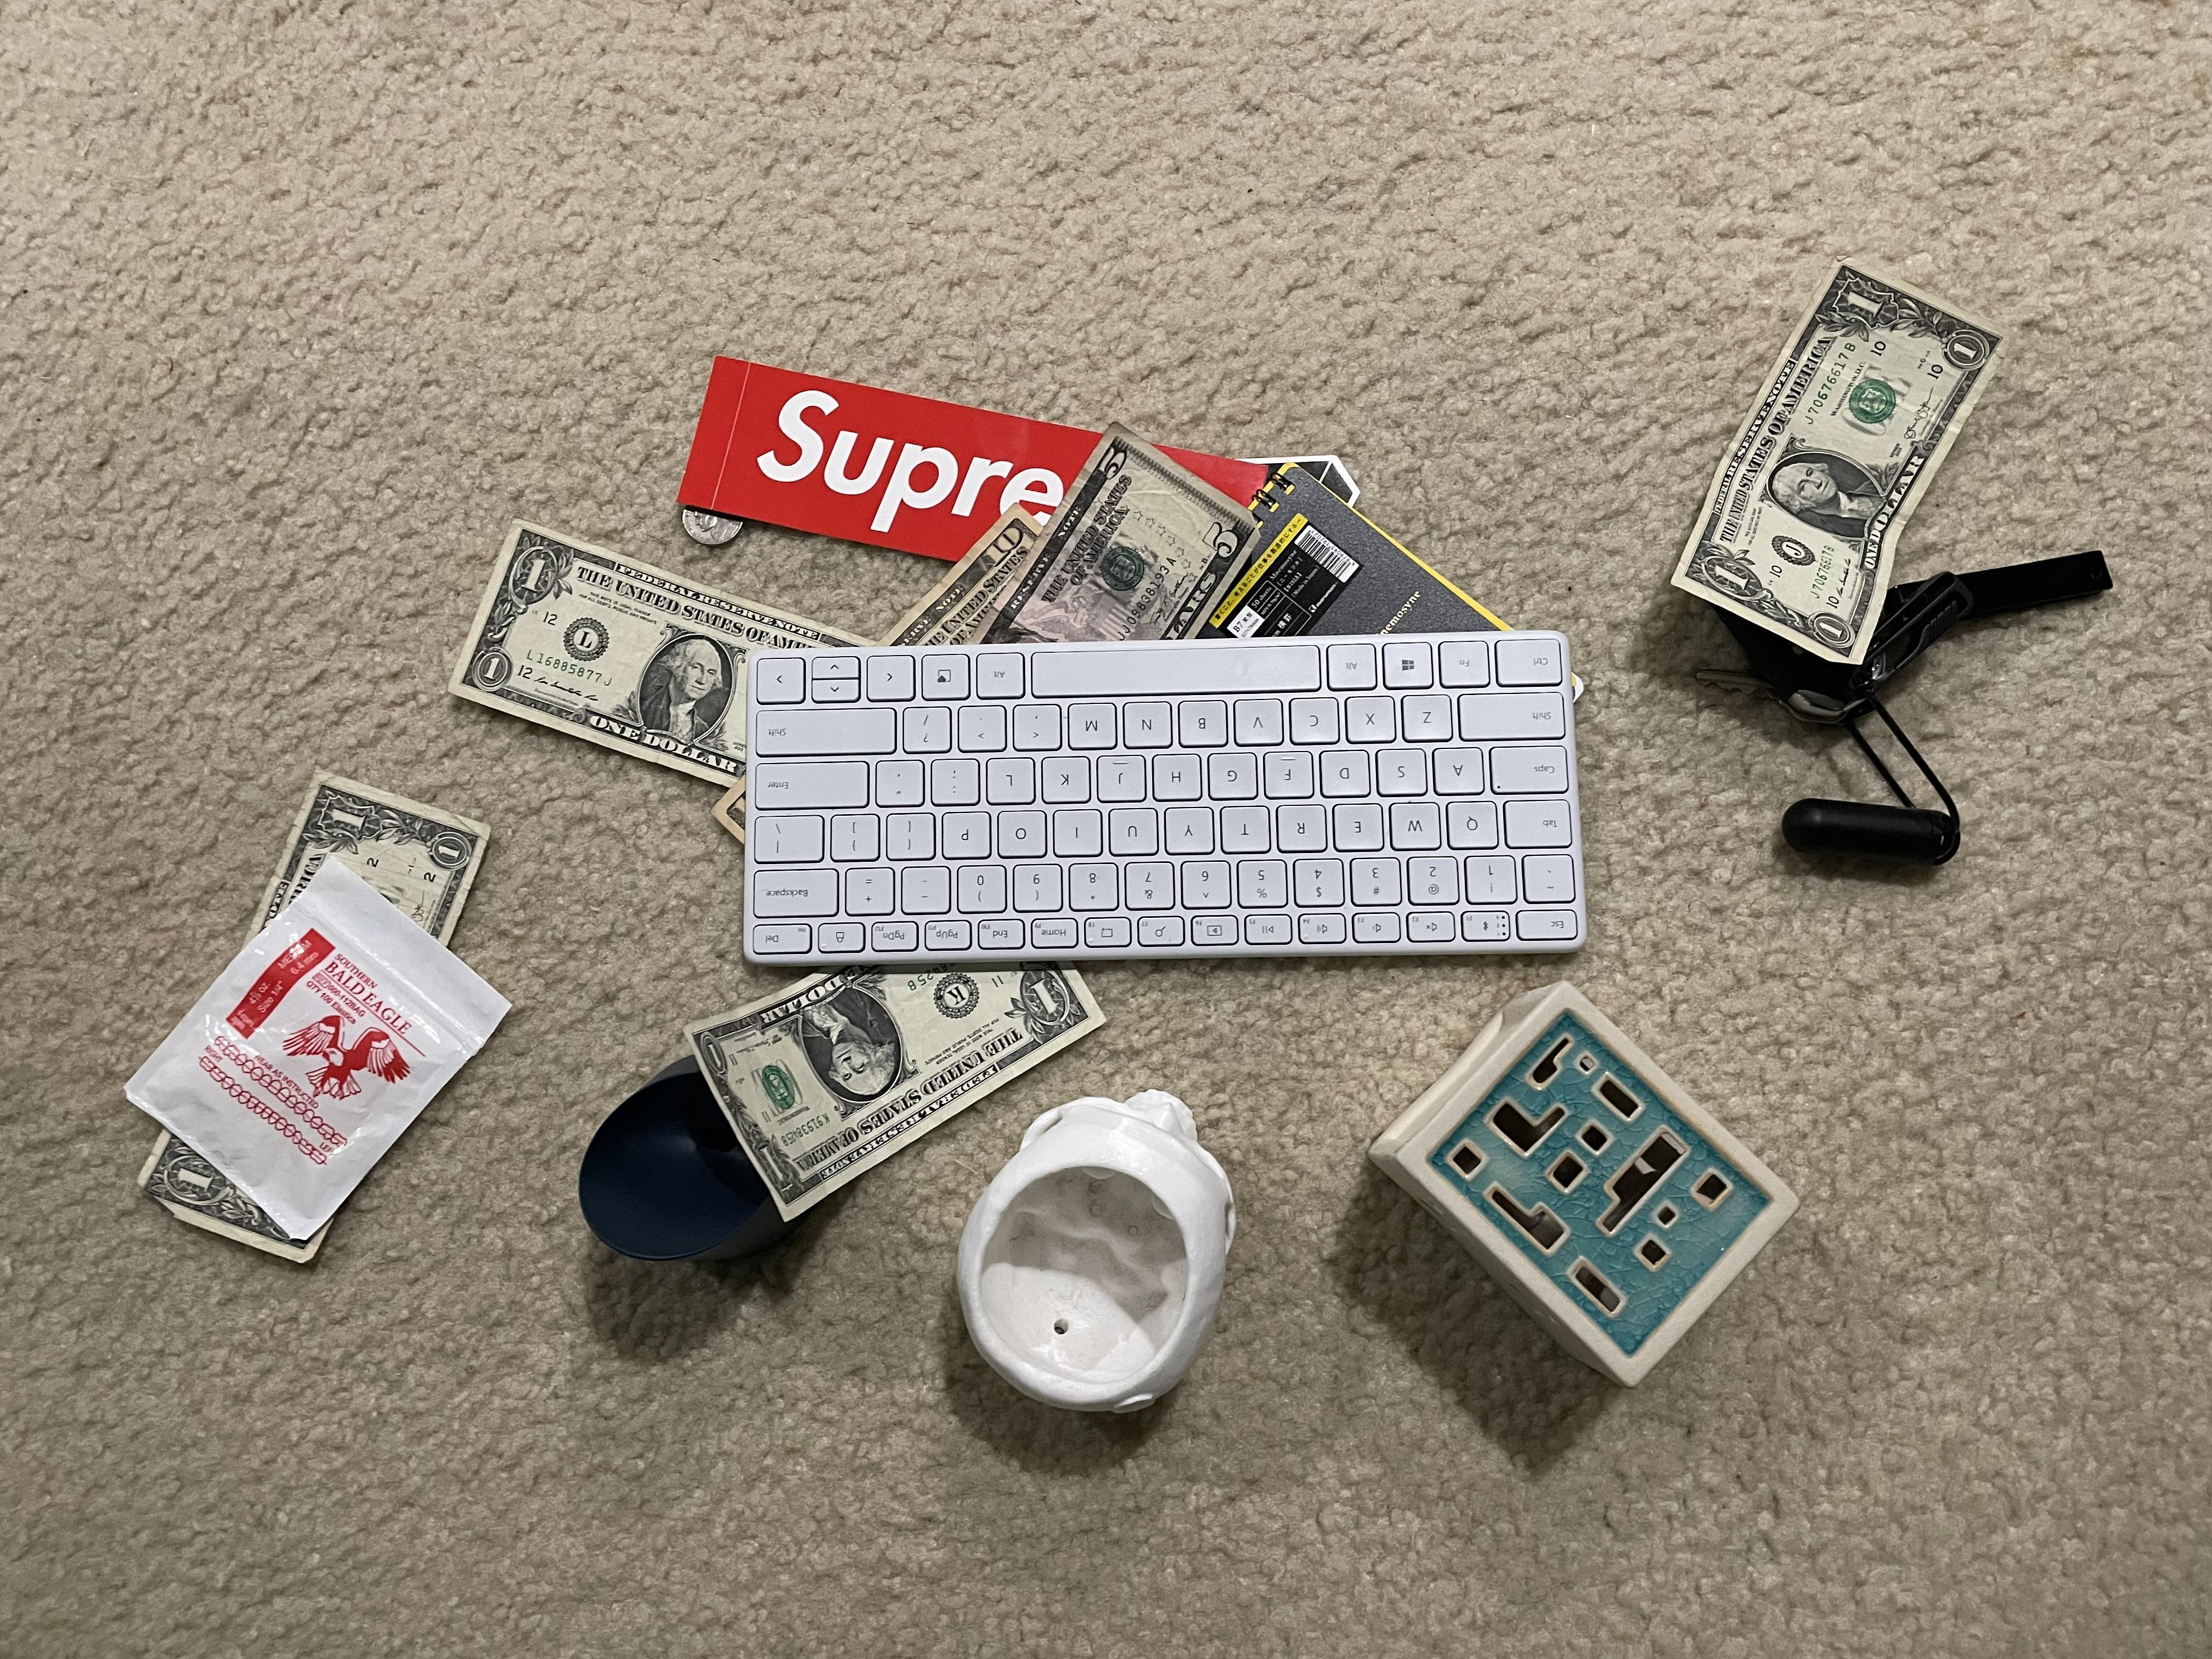FiveBill: (996, 427, 1264, 708)
Nickel: (681, 505, 751, 545)
OneBill: (134, 730, 486, 1269), (1663, 265, 2012, 701), (688, 941, 1122, 1222), (453, 528, 894, 784)
